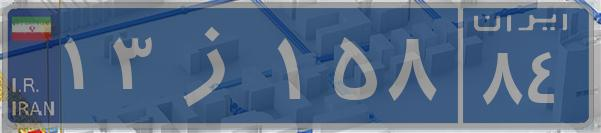1: (273, 28, 330, 110), (57, 26, 110, 107)
3: (110, 28, 158, 105)
4: (525, 38, 570, 115)
5: (330, 28, 385, 110)
8: (385, 28, 445, 110), (475, 38, 525, 113)
ز: (158, 15, 273, 115)
